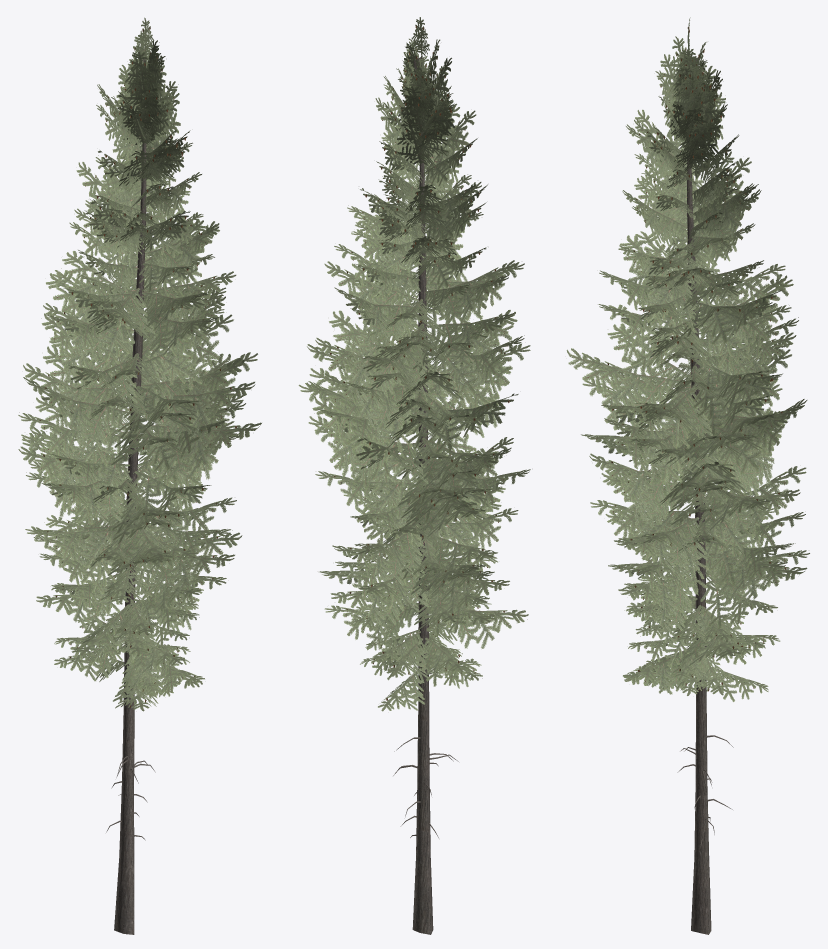
The model's file is Pseudotsuga_Menziesii_Autumn_Adult.glb.
The picture shows the model from 3 angles, left to right: view 1: azimuth 30°, elevation 25°; view 2: azimuth 150°, elevation 25°; view 3: azimuth 270°, elevation 25°; orthographic projection.
Parts seen in each view (by area): view 1: Pseudotsuga_Menziesii_Autumn_Adult__LOD3; view 2: Pseudotsuga_Menziesii_Autumn_Adult__LOD3; view 3: Pseudotsuga_Menziesii_Autumn_Adult__LOD3.
Part boxes in pixels (x1,y1,x2,y2): Pseudotsuga_Menziesii_Autumn_Adult__LOD3: [18, 17, 261, 934]; Pseudotsuga_Menziesii_Autumn_Adult__LOD3: [298, 17, 530, 934]; Pseudotsuga_Menziesii_Autumn_Adult__LOD3: [566, 17, 809, 934].
Bounding box in the file's own units: 15.41 × 64.06 × 15.81.
3 materials, 3 textured.
